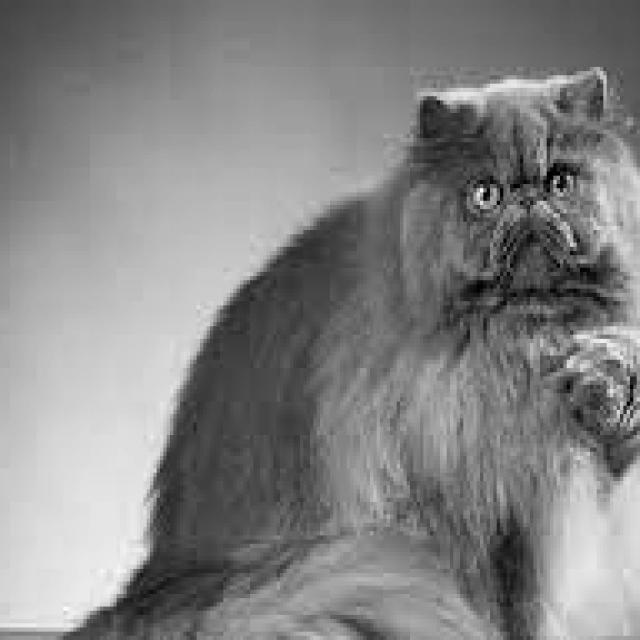iran: (394, 72, 636, 316)
